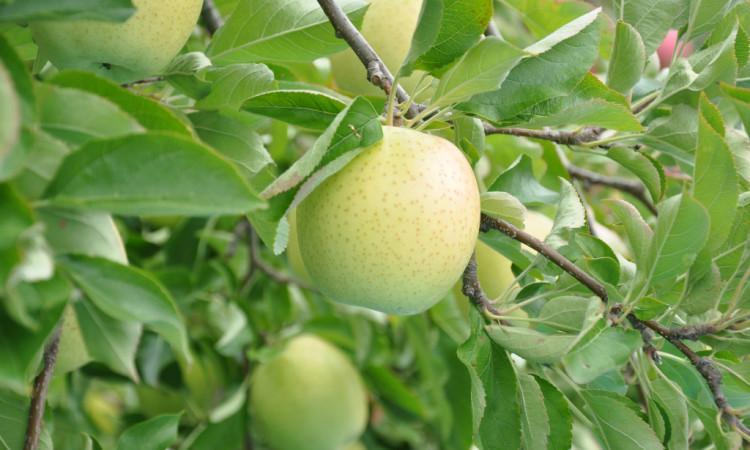apple: (290, 121, 479, 314)
